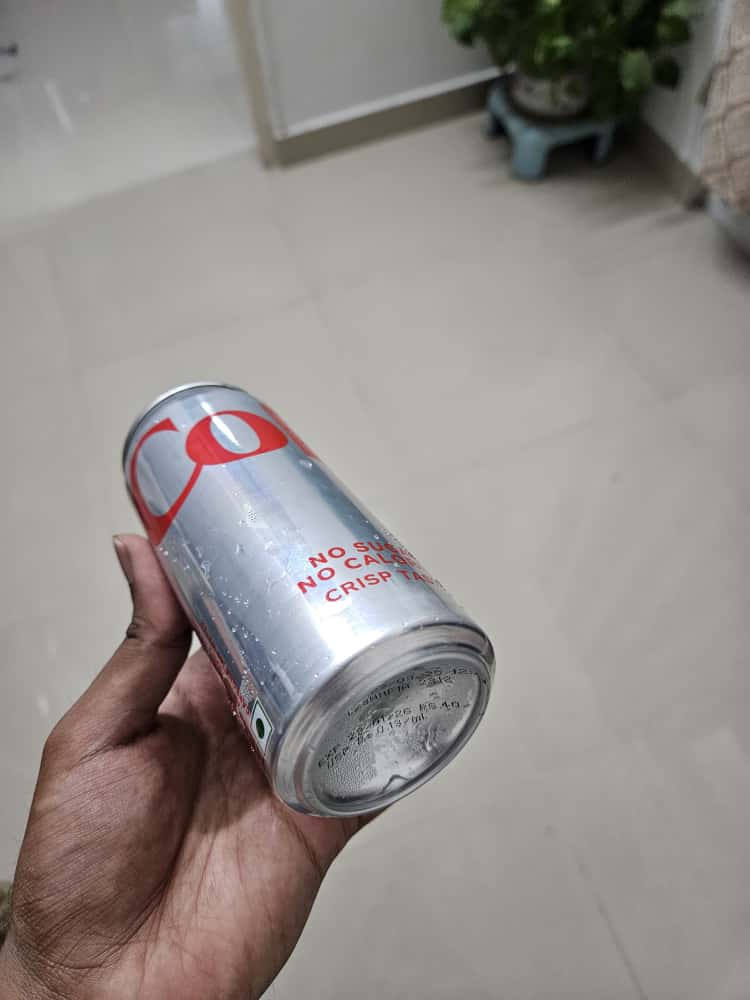dry: (109, 317, 497, 823)
